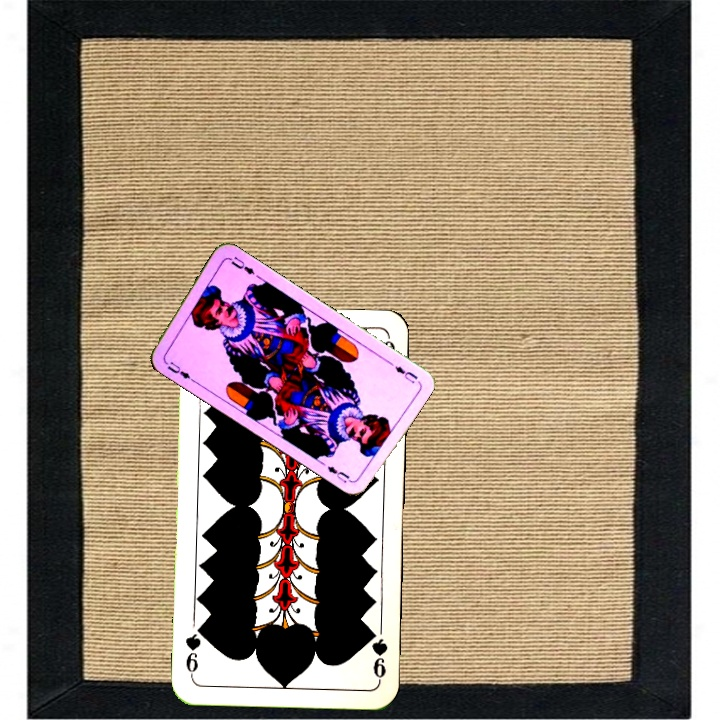EU: (160, 355, 196, 384), (390, 362, 420, 386)
G9: (365, 625, 390, 684)
